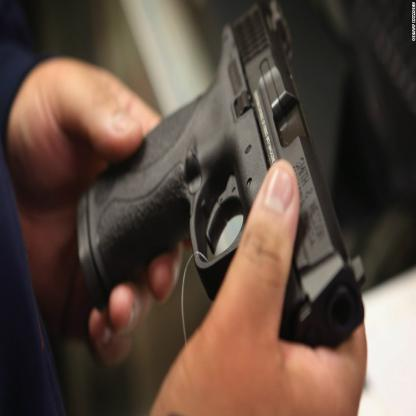pistol: (75, 1, 367, 348)
